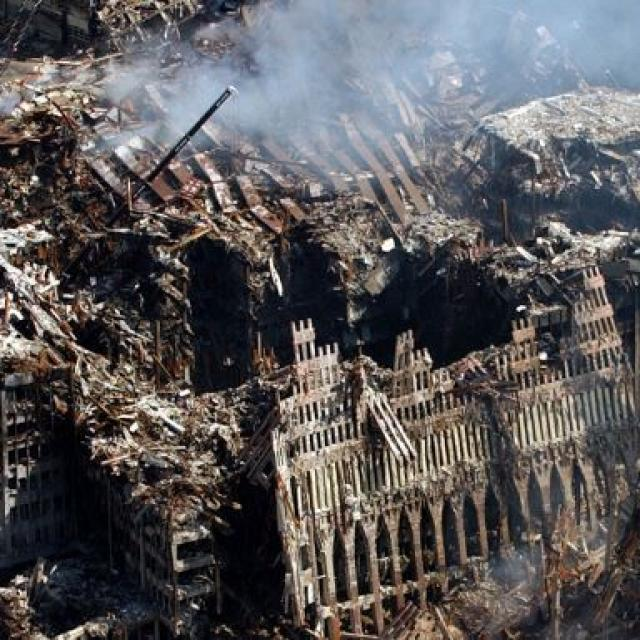collapsed_building: (5, 176, 638, 625)
